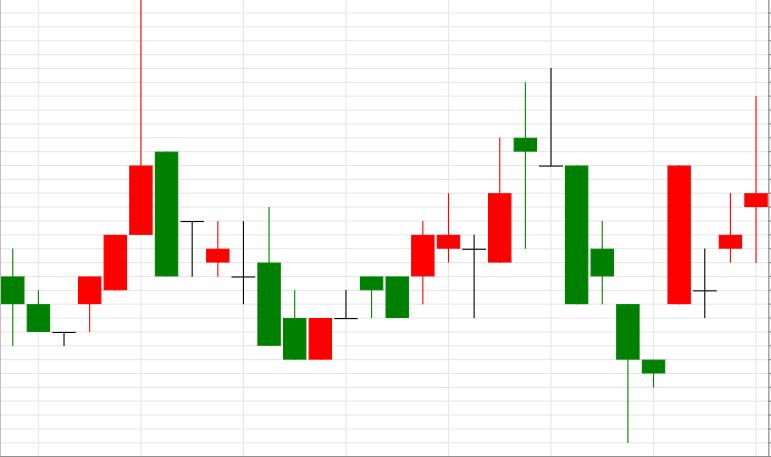hammer_rise: (514, 67, 639, 442)
